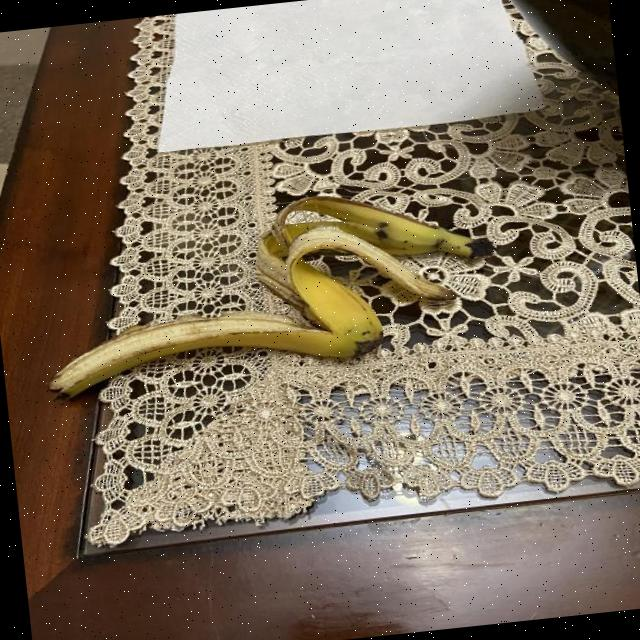banana-peel: (31, 176, 500, 402)
